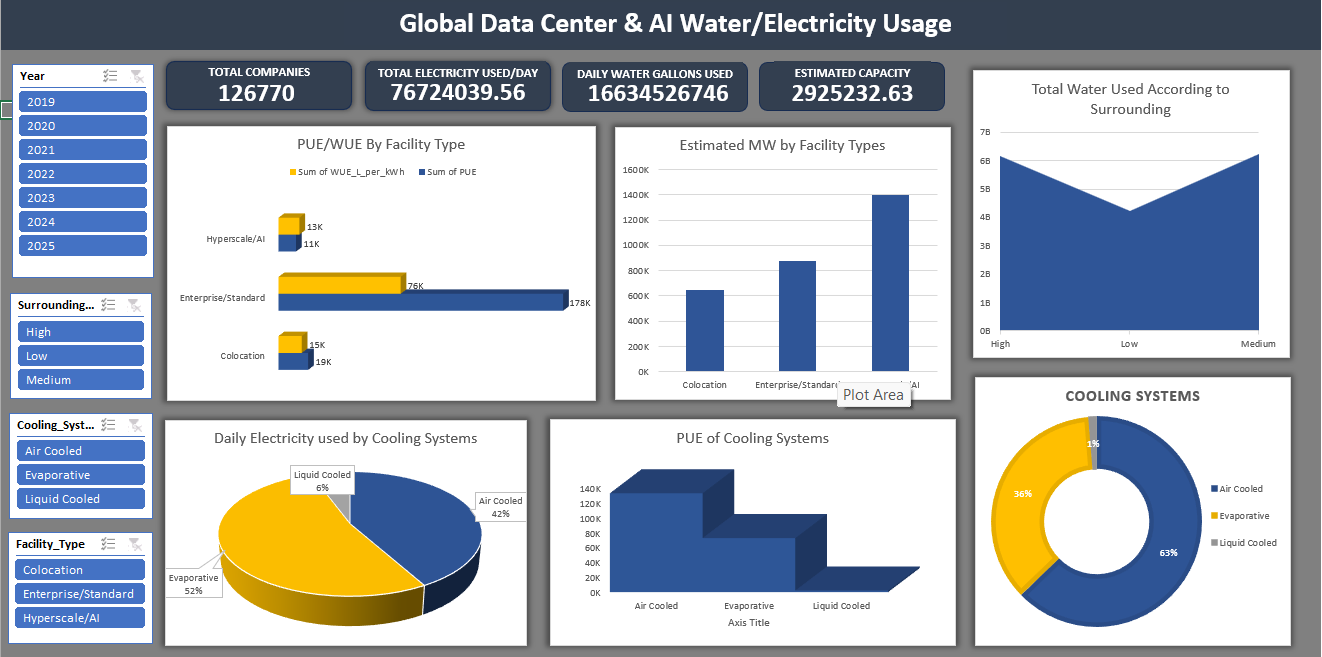

The dashboard page shown, as its layout file describes it:
{"tool":"powerbi","page":{"name":"Page 1","canvas":[1280,720],"ordinal":0},"visuals":[{"type":"shape","box":[9.6,30.2,1270.7,75.5],"z":0},{"type":"textbox","box":[20.6,39.8,1243.2,54.9],"z":1000},{"type":"barChart","fields":{"Category":["data_center_hybrid (1).Facility_Type"],"Y":["Sum(data_center_hybrid (1).WUE_L_per_kWh)","Sum(data_center_hybrid (1).PUE)"]},"box":[800,213.3,468.3,211.7],"z":2000},{"type":"columnChart","fields":{"Category":["data_center_hybrid (1).Facility_Type"],"Y":["Sum(data_center_hybrid (1).Estimated_Capacity_MW)"]},"box":[791.4,431.4,477.1,274.3],"z":3000},{"type":"donutChart","fields":{"Category":["data_center_hybrid (1).Cooling_System_Type"],"Y":["CountNonNull(data_center_hybrid (1).Cooling_System_Type)"]},"box":[402.9,435.7,382.9,270],"z":4000},{"type":"funnel","fields":{"Category":["data_center_hybrid (1).Cooling_System_Type"],"Y":["Sum(data_center_hybrid (1).PUE)"]},"box":[395,211.7,396.7,213.3],"z":5000},{"type":"pieChart","fields":{"Y":["Sum(data_center_hybrid (1).Daily_Electricity_Usage_MWh)"],"Category":["data_center_hybrid (1).Cooling_System_Type"]},"box":[20,448.3,375,256.7],"z":6000},{"type":"slicer","fields":{"Values":["data_center_hybrid (1).Facility_Type"]},"box":[20.9,210,180.9,116.4],"z":7000},{"type":"slicer","fields":{"Values":["data_center_hybrid (1).Surrounding_Water_Stress_Tier"]},"box":[20.7,329.3,206.7,113.3],"z":8000},{"type":"slicer","fields":{"Values":["data_center_hybrid (1).Cooling_System_Type"]},"box":[232.7,318.7,153.3,124],"z":9000},{"type":"slicer","fields":{"Values":["data_center_hybrid (1).Year"]},"box":[208.2,210,178.2,103.6],"z":10000},{"type":"kpi","fields":{"Indicator":["Sum(data_center_hybrid (1).PUE)"],"TrendLine":["data_center_hybrid (1).Cooling_System_Type"]},"box":[20.7,107.9,294.3,96.4],"z":11000},{"type":"kpi","fields":{"Indicator":["Sum(data_center_hybrid (1).WUE_L_per_kWh)"],"TrendLine":["data_center_hybrid (1).Facility_Type"]},"box":[318.6,107.1,326.4,97.1],"z":12000},{"type":"kpi","fields":{"Indicator":["Sum(data_center_hybrid (1).WUE_L_per_kWh)"],"TrendLine":["data_center_hybrid (1).Surrounding_Water_Stress_Tier"]},"box":[652.1,107.1,314.3,96.4],"z":13000},{"type":"kpi","fields":{"Indicator":["Sum(data_center_hybrid (1).Daily_Electricity_Usage_MWh)"],"TrendLine":["data_center_hybrid (1).Surrounding_Water_Stress_Tier"]},"box":[972.1,107.1,299.3,96.4],"z":14000}]}

Visuals, with their boxes on the page's 1280x720 design canvas (x1, y1, x2, y2). These are canvas units, not pixel positions in the 1322x657 screenshot, which may show the page scaled, cropped or inside an application window:
shape: [10,30,1280,106]
textbox: [21,40,1264,95]
barChart - data_center_hybrid (1).Facility_Type x Sum(data_center_hybrid (1).WUE_L_per_kWh): [800,213,1268,425]
columnChart - data_center_hybrid (1).Facility_Type x Sum(data_center_hybrid (1).Estimated_Capacity_MW): [791,431,1268,706]
donutChart - data_center_hybrid (1).Cooling_System_Type x CountNonNull(data_center_hybrid (1).Cooling_System_Type): [403,436,786,706]
funnel - data_center_hybrid (1).Cooling_System_Type x Sum(data_center_hybrid (1).PUE): [395,212,792,425]
pieChart - Sum(data_center_hybrid (1).Daily_Electricity_Usage_MWh) x data_center_hybrid (1).Cooling_System_Type: [20,448,395,705]
slicer - data_center_hybrid (1).Facility_Type: [21,210,202,326]
slicer - data_center_hybrid (1).Surrounding_Water_Stress_Tier: [21,329,227,443]
slicer - data_center_hybrid (1).Cooling_System_Type: [233,319,386,443]
slicer - data_center_hybrid (1).Year: [208,210,386,314]
kpi - Sum(data_center_hybrid (1).PUE) x data_center_hybrid (1).Cooling_System_Type: [21,108,315,204]
kpi - Sum(data_center_hybrid (1).WUE_L_per_kWh) x data_center_hybrid (1).Facility_Type: [319,107,645,204]
kpi - Sum(data_center_hybrid (1).WUE_L_per_kWh) x data_center_hybrid (1).Surrounding_Water_Stress_Tier: [652,107,966,204]
kpi - Sum(data_center_hybrid (1).Daily_Electricity_Usage_MWh) x data_center_hybrid (1).Surrounding_Water_Stress_Tier: [972,107,1271,204]
